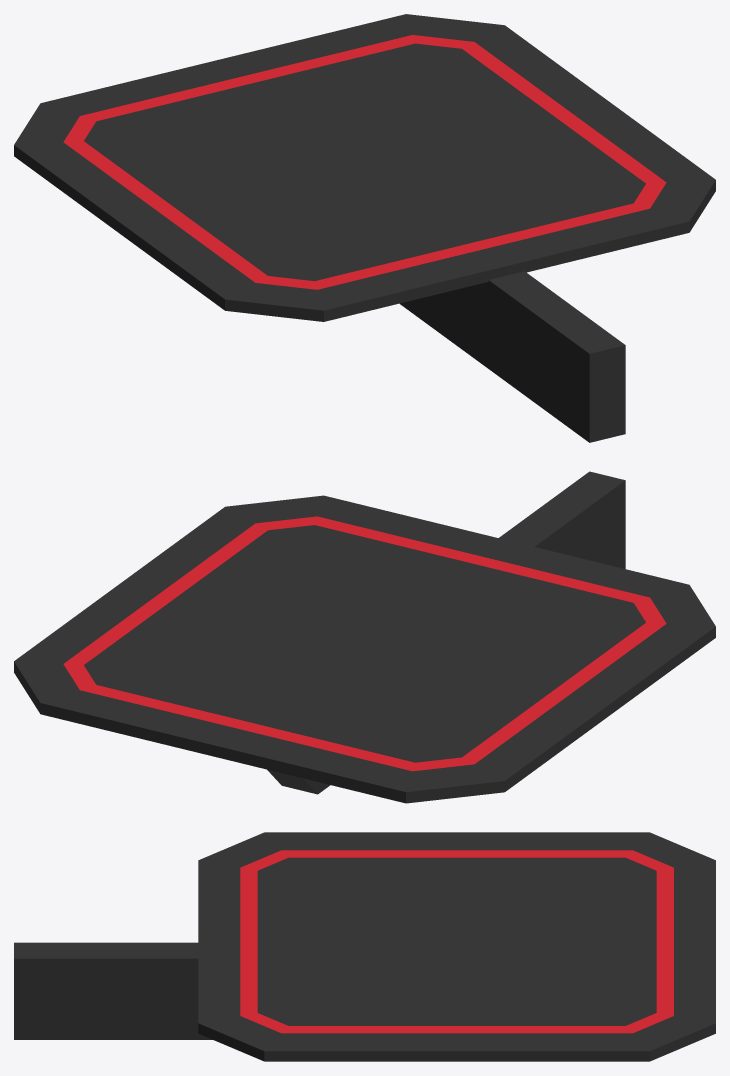
File: elevator2.fbx
3 renders of one model, top to bottom at view 1: azimuth 30°, elevation 25°; view 2: azimuth 150°, elevation 25°; view 3: azimuth 270°, elevation 25°, orthographic. The views are drawn at different scales.
Visible parts, largest first — view 1: Elevator; view 2: Elevator; view 3: Elevator.
Boxes of the visible parts, box(x1,y1,x2,y2) form: Elevator: box(14, 14, 715, 442); Elevator: box(14, 471, 715, 803); Elevator: box(14, 832, 715, 1061).
Bounding box in the file's own units: 309 × 59.36 × 419.
